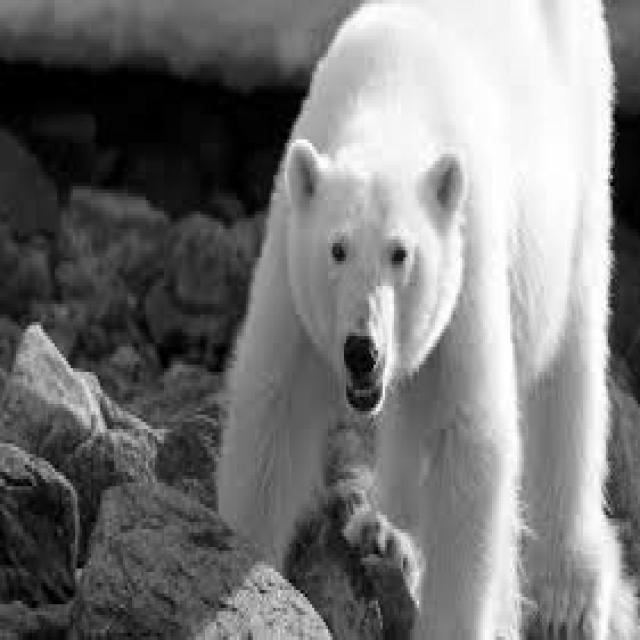Bear: (272, 48, 615, 628)
